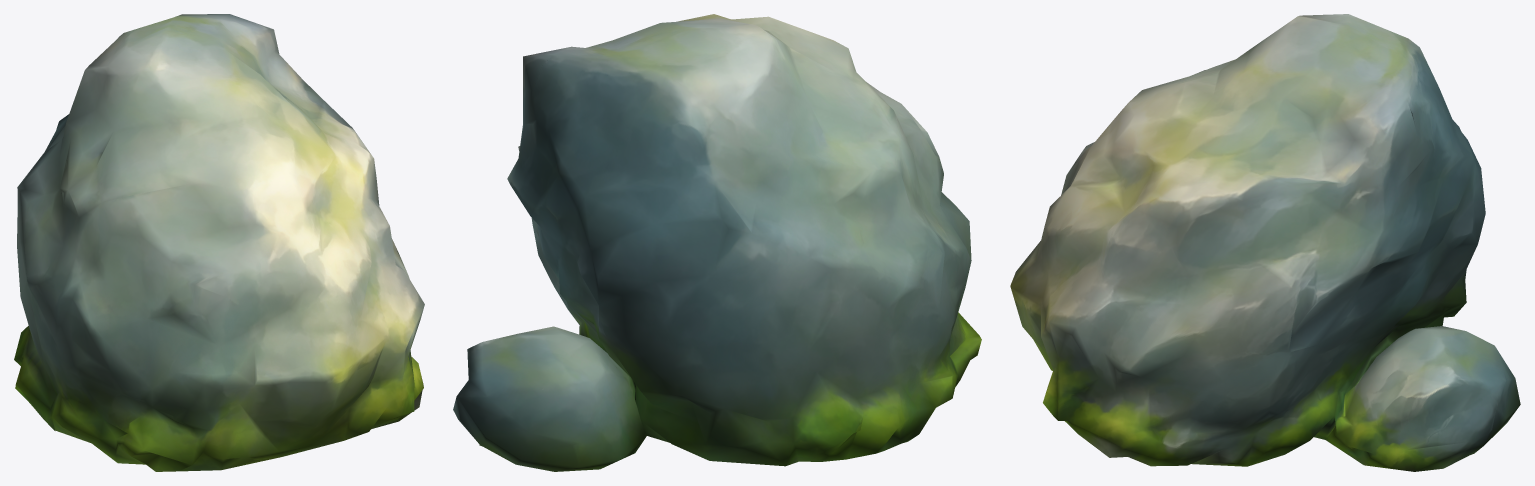
File: model_raw.glb
The picture shows the model from 3 angles, left to right: view 1: azimuth 30°, elevation 25°; view 2: azimuth 150°, elevation 25°; view 3: azimuth 270°, elevation 25°; orthographic projection. The views are drawn at different scales.
Parts seen in each view (by area): view 1: tripo_node_80527939-f110-4e01-bd31-47c6c3fa9f89; view 2: tripo_node_80527939-f110-4e01-bd31-47c6c3fa9f89; view 3: tripo_node_80527939-f110-4e01-bd31-47c6c3fa9f89.
Boxes of the visible parts, box(x1,y1,x2,y2) form: tripo_node_80527939-f110-4e01-bd31-47c6c3fa9f89: box(14, 14, 424, 471); tripo_node_80527939-f110-4e01-bd31-47c6c3fa9f89: box(453, 14, 981, 471); tripo_node_80527939-f110-4e01-bd31-47c6c3fa9f89: box(1010, 14, 1520, 471).
Bounding box in the file's own units: 0.8192 × 0.8064 × 1.
1 material, 1 textured.
